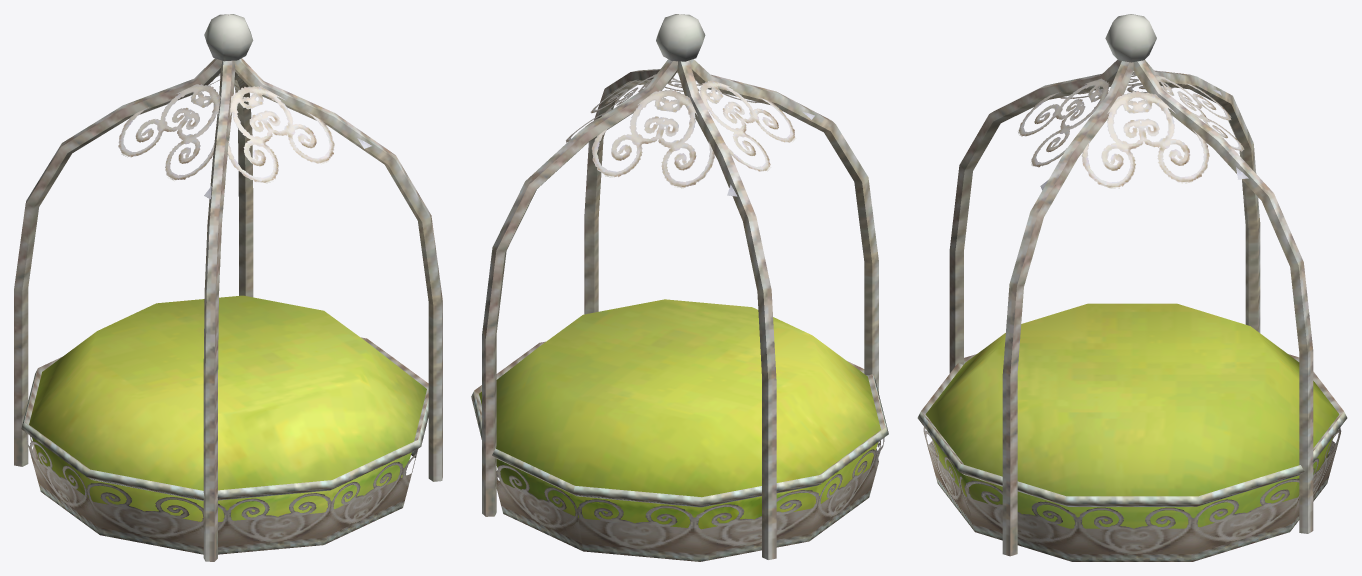
Rendered from furni_0200131_02.FBX.
3 views of the same model, side by side, from view 1: azimuth 30°, elevation 25°; view 2: azimuth 150°, elevation 25°; view 3: azimuth 270°, elevation 25° (orthographic).
Parts seen in each view (by area): view 1: furni_0200131_02; view 2: furni_0200131_02; view 3: furni_0200131_02.
Part boxes in pixels (x1,y1,x2,y2): furni_0200131_02: (14,14,442,561); furni_0200131_02: (471,14,888,561); furni_0200131_02: (917,14,1347,561).
Size of the model in its own units: 77.96 by 98.6 by 81.98.
